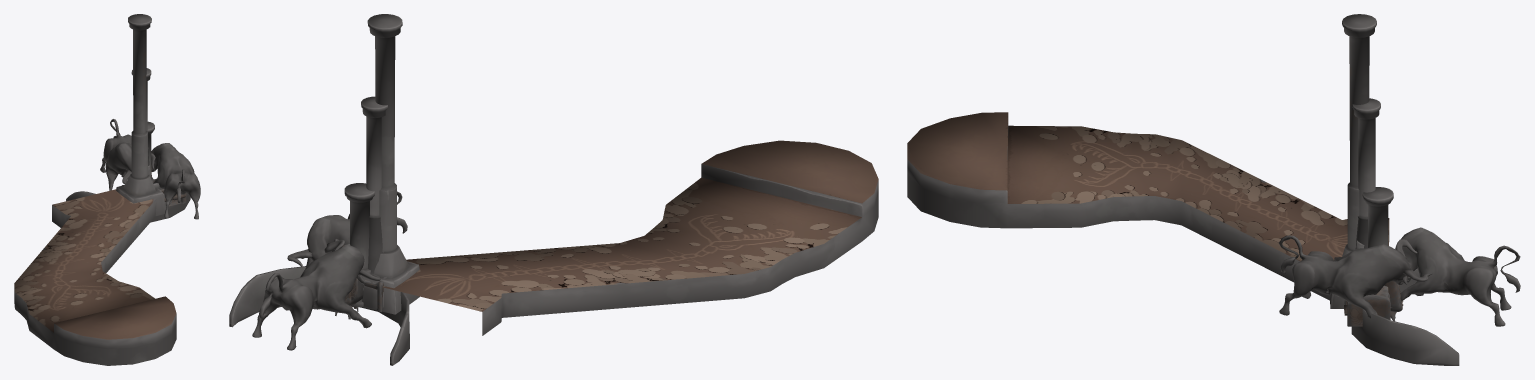
The model's file is Weapon-Altar.gltf.
3 renders of one model, left to right at view 1: azimuth 30°, elevation 25°; view 2: azimuth 150°, elevation 25°; view 3: azimuth 270°, elevation 25°, orthographic. The views are drawn at different scales.
Parts seen in each view (by area): view 1: EN_Altar_Tutorial_Floor.001, EN_Tutorail_Pillar_03.001, PR_Bull_Statue_attack_pose_R.001, PR_Bull_Statue_attack_pose_L.001, EN_Altar_Tutorial_BackWall.001, EN_Tutorail_Pillar_01.001, EN_Tutorail_Pillar_02.001, PR_Altar_Weapon_Stand.001; view 2: EN_Altar_Tutorial_Floor.001, EN_Tutorail_Pillar_03.001, PR_Bull_Statue_attack_pose_L.001, EN_Tutorail_Pillar_02.001, EN_Altar_Tutorial_BackWall.001, PR_Bull_Statue_attack_pose_R.001, EN_Tutorail_Pillar_01.001; view 3: EN_Altar_Tutorial_Floor.001, PR_Bull_Statue_attack_pose_R.001, PR_Bull_Statue_attack_pose_L.001, EN_Tutorail_Pillar_03.001, EN_Altar_Tutorial_BackWall.001, EN_Tutorail_Pillar_02.001, EN_Tutorail_Pillar_01.001, PR_Altar_Weapon_Stand.001.
Boxes of the visible parts, x1,y1,x2,y2 form: EN_Altar_Tutorial_Floor.001: [14, 189, 176, 365]; EN_Tutorail_Pillar_03.001: [116, 14, 165, 215]; PR_Bull_Statue_attack_pose_R.001: [151, 143, 200, 219]; PR_Bull_Statue_attack_pose_L.001: [100, 119, 155, 190]; EN_Altar_Tutorial_BackWall.001: [66, 191, 190, 222]; EN_Tutorail_Pillar_01.001: [147, 121, 154, 182]; EN_Tutorail_Pillar_02.001: [131, 68, 151, 174]; PR_Altar_Weapon_Stand.001: [122, 178, 186, 206]; EN_Altar_Tutorial_Floor.001: [366, 140, 878, 335]; EN_Tutorail_Pillar_03.001: [363, 14, 419, 314]; PR_Bull_Statue_attack_pose_L.001: [252, 239, 380, 350]; EN_Tutorail_Pillar_02.001: [361, 96, 387, 308]; EN_Altar_Tutorial_BackWall.001: [229, 266, 409, 365]; PR_Bull_Statue_attack_pose_R.001: [287, 191, 407, 269]; EN_Tutorail_Pillar_01.001: [344, 183, 374, 307]; EN_Altar_Tutorial_Floor.001: [907, 112, 1389, 300]; PR_Bull_Statue_attack_pose_R.001: [1278, 235, 1432, 318]; PR_Bull_Statue_attack_pose_L.001: [1395, 227, 1520, 326]; EN_Tutorail_Pillar_03.001: [1330, 14, 1376, 308]; EN_Altar_Tutorial_BackWall.001: [1351, 268, 1459, 365]; EN_Tutorail_Pillar_02.001: [1345, 98, 1380, 304]; EN_Tutorail_Pillar_01.001: [1362, 187, 1393, 247]; PR_Altar_Weapon_Stand.001: [1347, 285, 1390, 326].
Bounding box in the file's own units: 15.74 × 10.88 × 20.63.
1 material, 1 textured.
